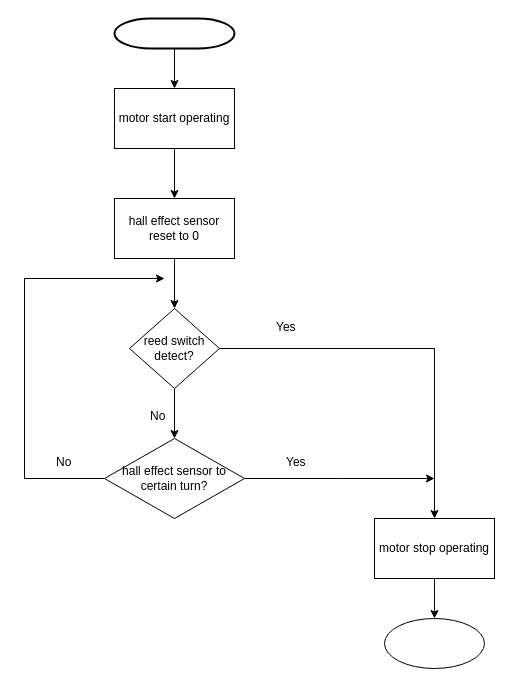
Some shapes in this 512 by 686 pixel diagram are drawn without their labels. The centre of each missing label's shape, as x and y in pixels:
end: the point at 434,643
start: the point at 174,33
